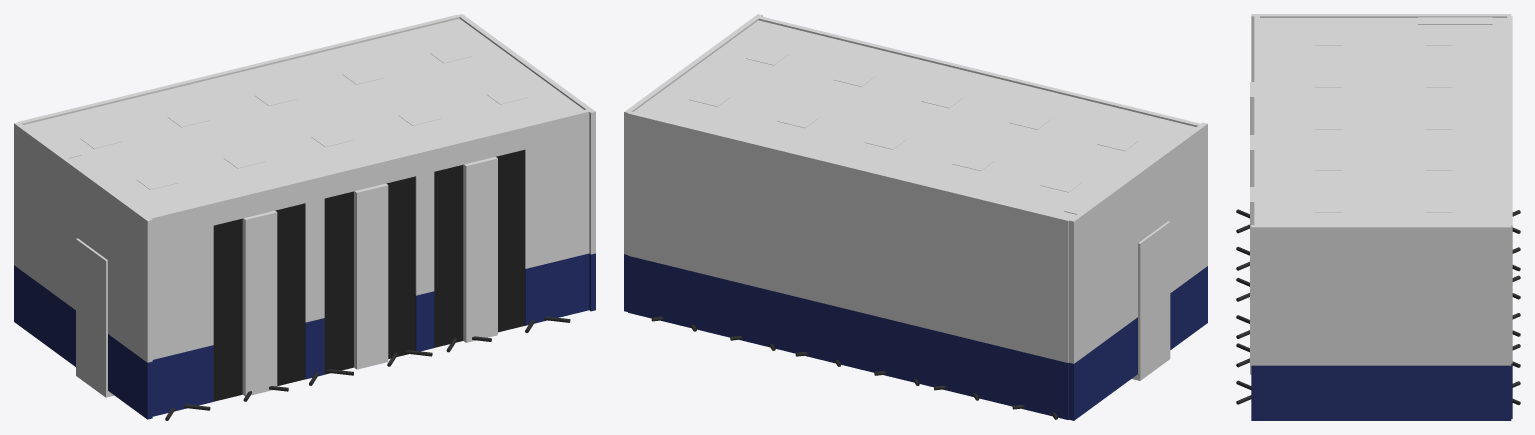
The model's file is офис 1.fbx.
The picture shows the model from 3 angles, left to right: view 1: azimuth 30°, elevation 25°; view 2: azimuth 150°, elevation 25°; view 3: azimuth 270°, elevation 25°; orthographic projection. The views are drawn at different scales.
Parts seen in each view (by area): view 1: Cube, Куб.147, Куб.145, Куб.142, Куб.131, Куб.130, Куб.132, Куб.140, Куб.138, Куб.136, Куб.134, Куб.137 (+6 smaller); view 2: Куб.144, Cube, Куб.139, Куб.145, Куб.140, Куб.281, Куб.147, Куб.146, Куб.280; view 3: Cube, Куб.146, Куб.141, Куб.144, Куб.145, Куб.147, Куб.280, Куб.132, Куб.004, Куб.005, Куб, Куб.001 (+6 smaller).
Boxes of the visible parts, <box> form: Cube: <box>23,18,583,216</box>; Куб.147: <box>148,109,589,359</box>; Куб.145: <box>14,122,152,362</box>; Куб.142: <box>152,253,589,416</box>; Куб.131: <box>242,210,277,396</box>; Куб.130: <box>354,183,388,369</box>; Куб.132: <box>463,157,497,342</box>; Куб.140: <box>14,265,152,419</box>; Куб.138: <box>213,218,242,401</box>; Куб.136: <box>434,165,463,347</box>; Куб.134: <box>324,191,353,374</box>; Куб.137: <box>275,203,305,386</box>; Куб.144: <box>628,111,1070,362</box>; Cube: <box>634,20,1195,218</box>; Куб.139: <box>628,256,1068,419</box>; Куб.145: <box>1069,122,1207,363</box>; Куб.140: <box>1069,266,1207,420</box>; Куб.281: <box>1132,221,1170,380</box>; Куб.147: <box>758,16,1200,126</box>; Куб.146: <box>624,14,762,254</box>; Куб.280: <box>1064,183,1115,214</box>; Cube: <box>1260,18,1506,224</box>; Куб.146: <box>1251,225,1511,365</box>; Куб.141: <box>1251,365,1511,420</box>; Куб.144: <box>1507,16,1512,363</box>; Куб.145: <box>1251,14,1511,81</box>; Куб.147: <box>1254,16,1259,224</box>; Куб.280: <box>1418,17,1492,24</box>; Куб.132: <box>1250,187,1254,374</box>; Куб.004: <box>1315,115,1342,129</box>; Куб.005: <box>1425,115,1452,129</box>; Куб: <box>1315,199,1342,212</box>; Куб.001: <box>1425,199,1452,212</box>.
Bounding box in the file's own units: 1437 × 625 × 805.
